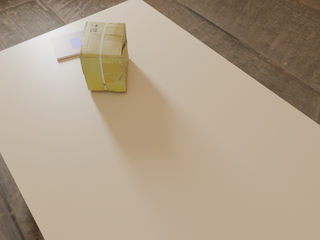book: (51, 31, 84, 60)
box: (80, 22, 129, 92)
